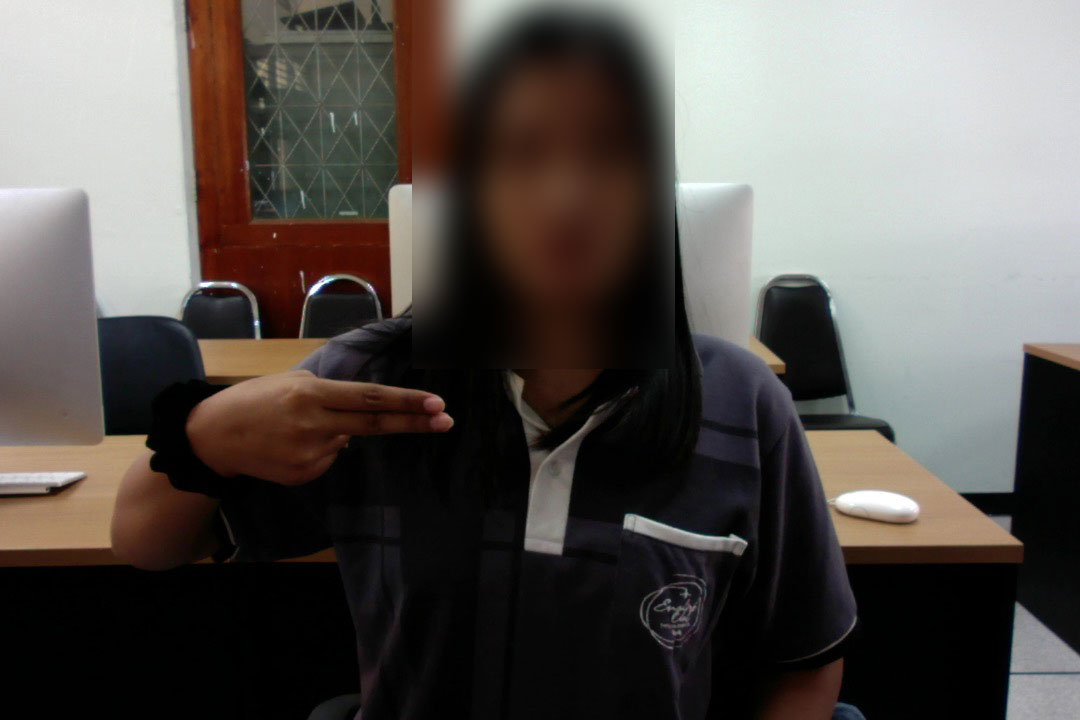hor: (208, 362, 456, 495)
